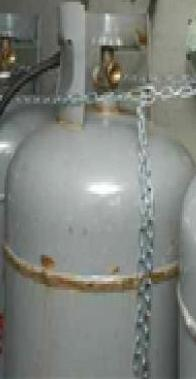cylinder: (1, 0, 196, 379)
